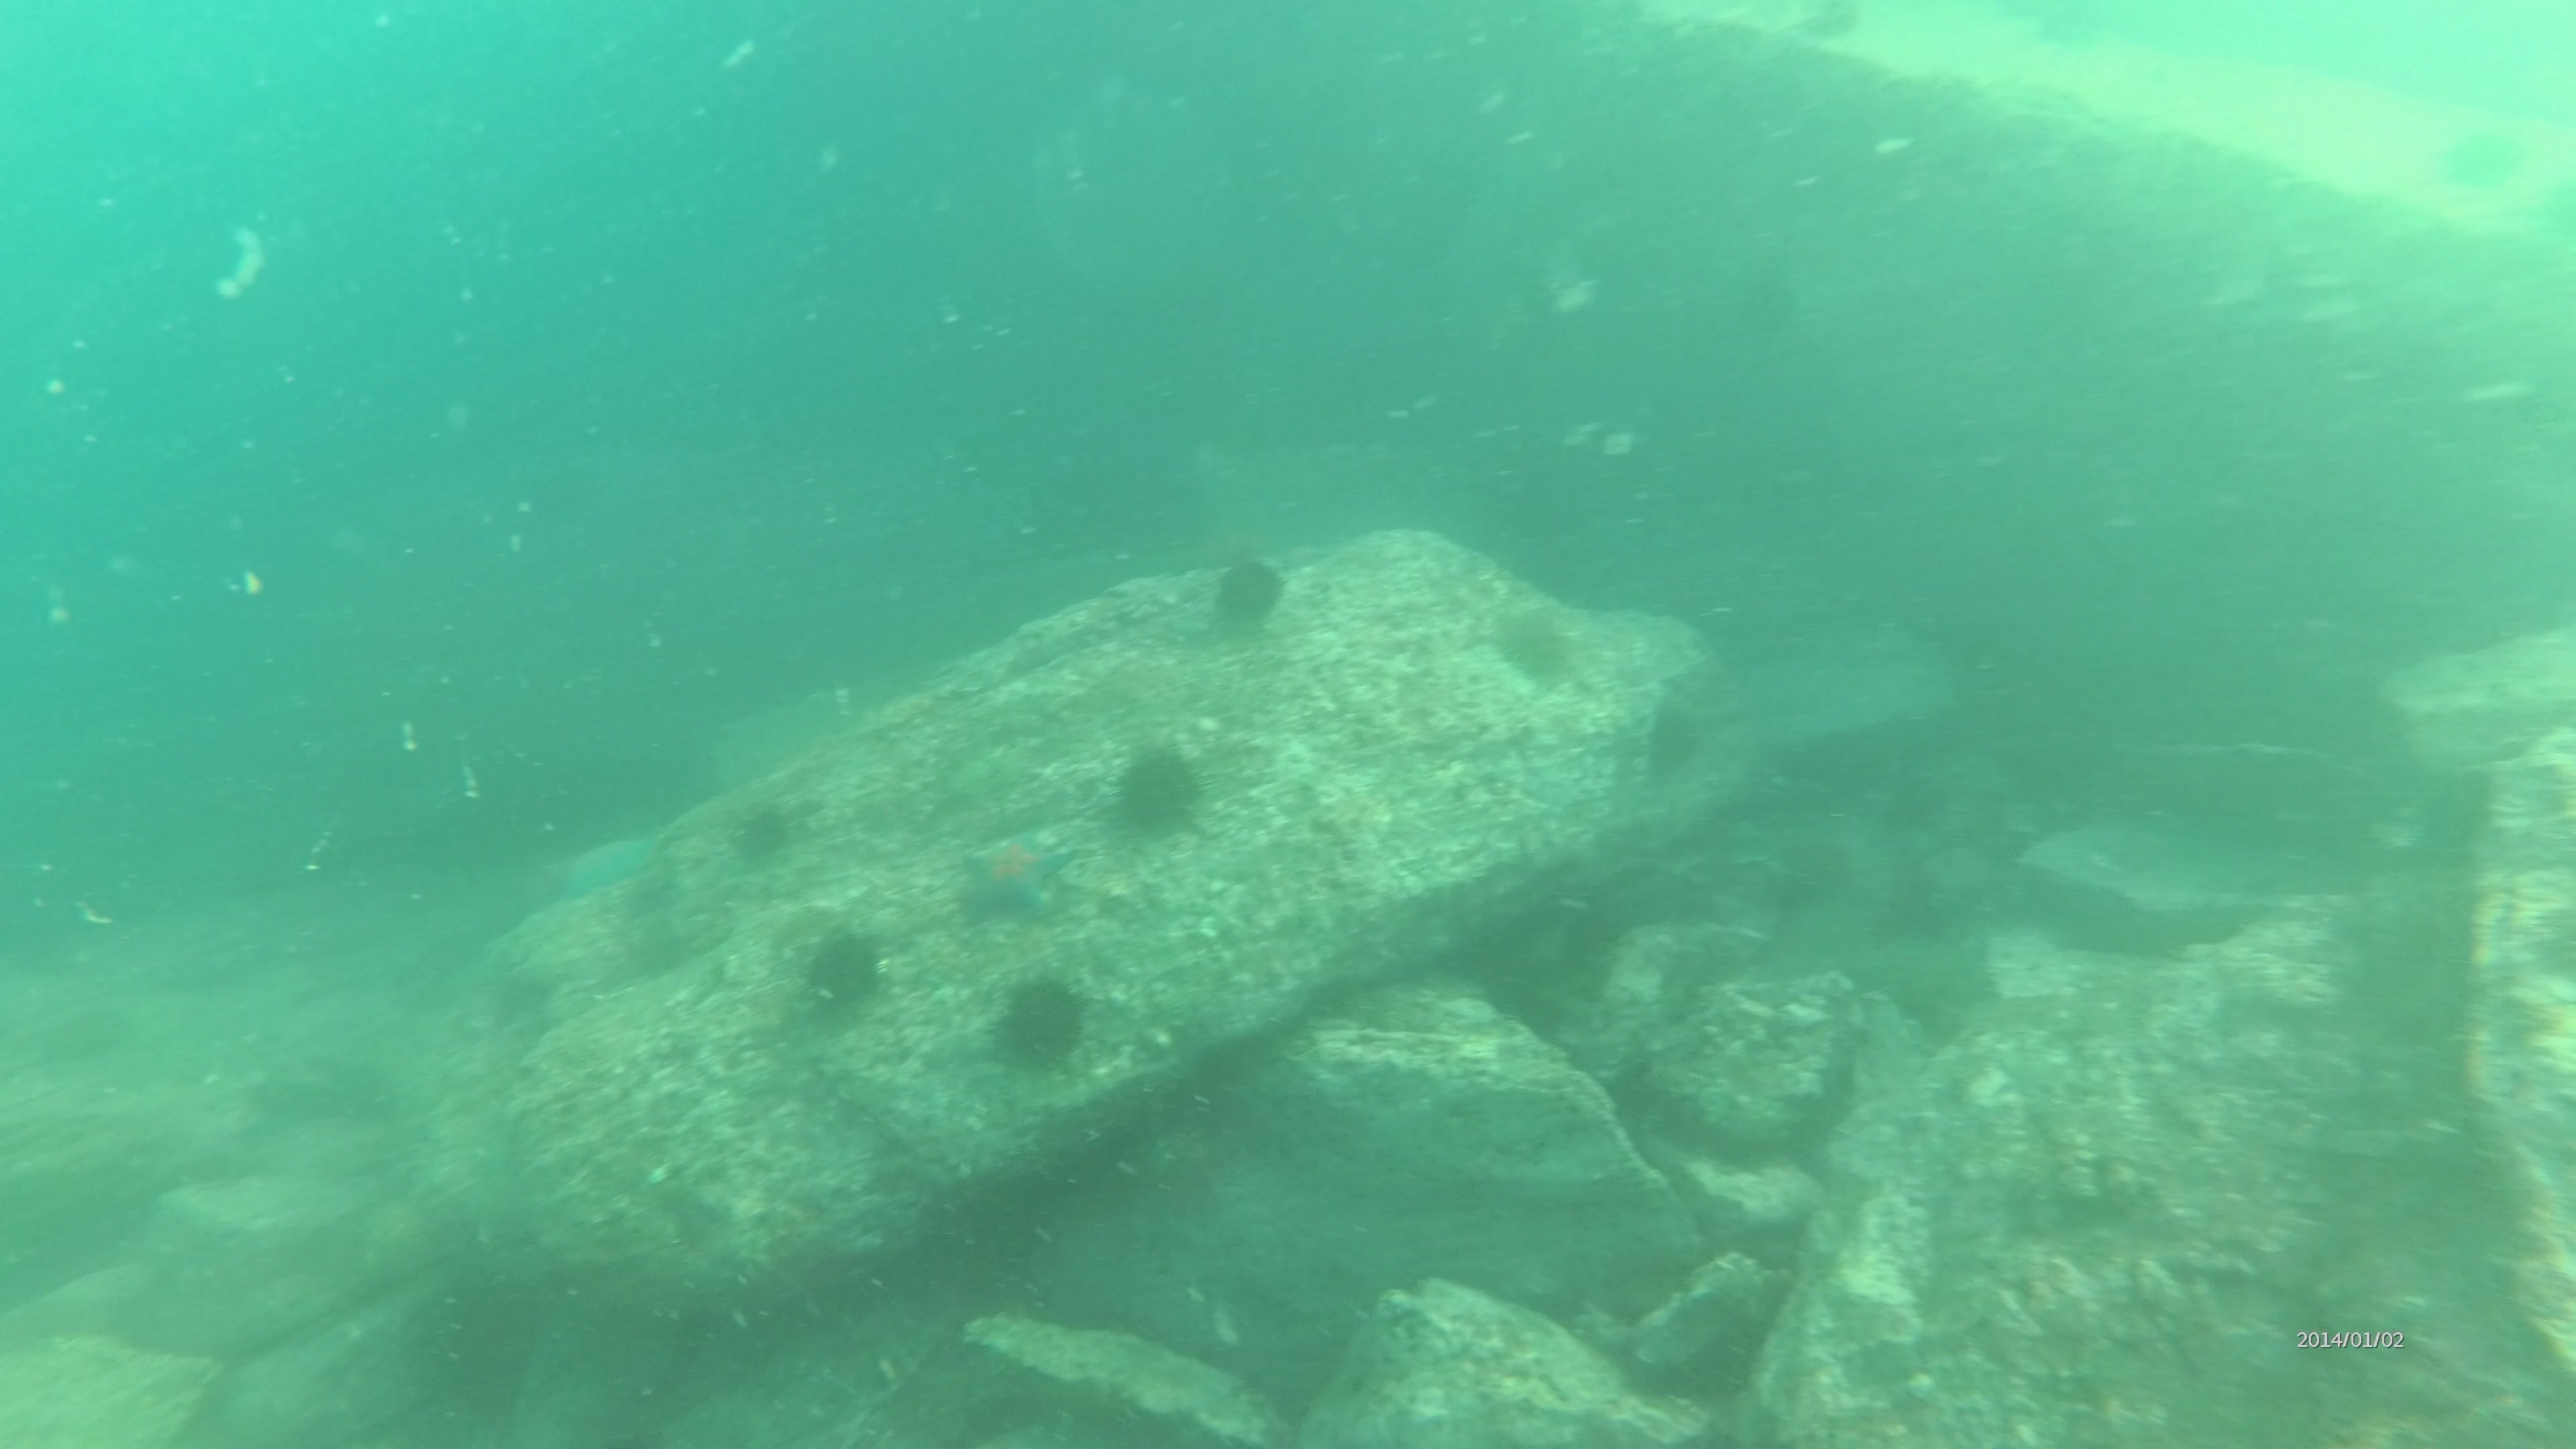echinus: (984, 966, 1097, 1079), (1102, 736, 1214, 846), (791, 920, 893, 1024), (1488, 596, 1583, 692), (1201, 545, 1293, 639), (718, 791, 805, 874)
starfish: (948, 821, 1077, 927), (541, 828, 663, 909)
